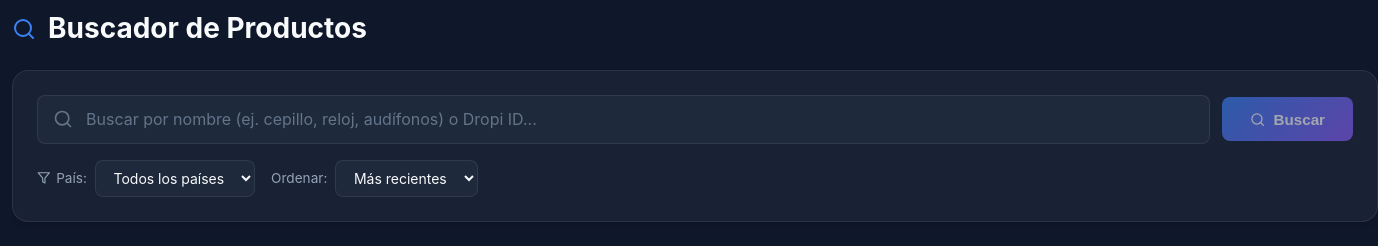
it: ProductSearch Component (MSW Integration) › valida que la consulta tenga al menos 2 caracteres y mantiene el botón deshabilitado
This screenshot has width=1378, height=246.
Expected: the button "Buscar" is disabled, [1222,97,1353,141]
Con 1 carácter sigue deshabilitado
Type "a" into the search field named "Término de búsqueda" at (624,119), box [37,95,1210,144]
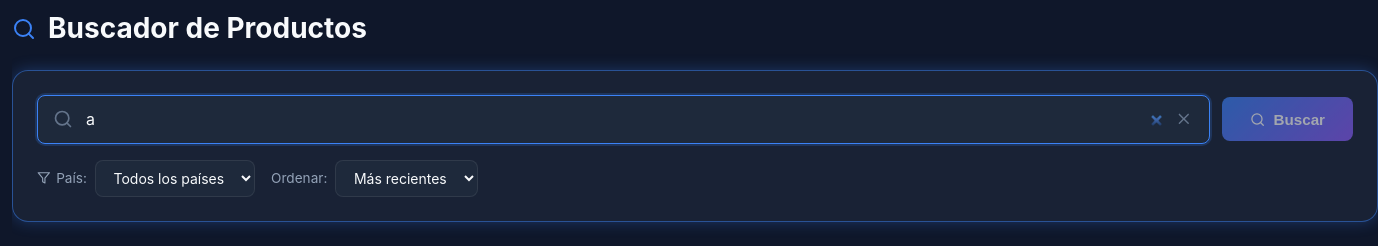
Expected: the button "Buscar" is disabled, [1222,97,1353,141]
Con 2 caracteres se habilita
Type "b" into the search field named "Término de búsqueda" at (624,119), box [37,95,1210,144]
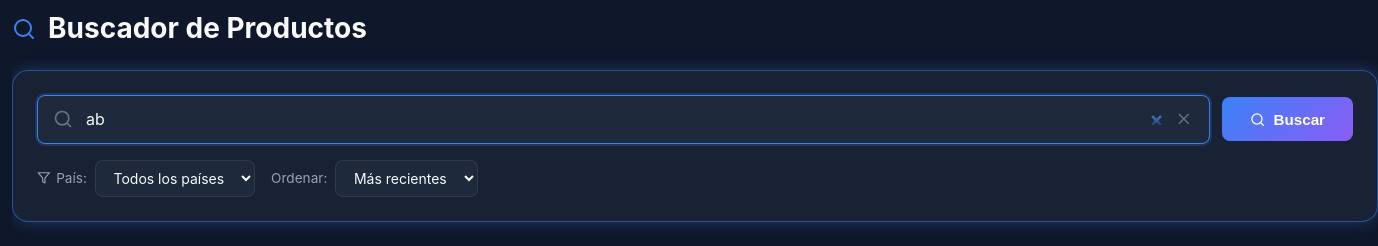
Result: the button "Buscar" is enabled at [1222,97,1353,141]
